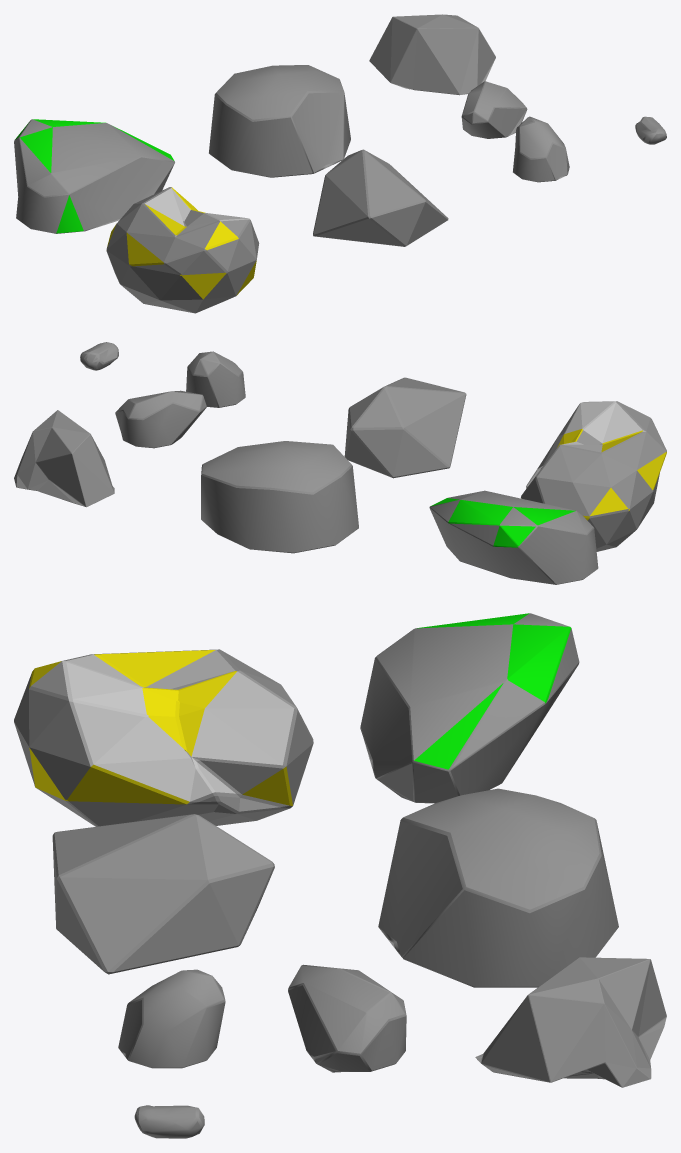
The model's file is Stones.fbx.
The picture shows the model from 3 angles, top to bottom: view 1: azimuth 30°, elevation 25°; view 2: azimuth 150°, elevation 25°; view 3: azimuth 270°, elevation 25°; orthographic projection. The views are drawn at different scales.
Visible parts, largest first — view 1: Ironstone2, Iron stone, Rock Big, MineStone, Mine stone2, RockSmall, Rock, PickUpRock; view 2: Rock Big, Iron stone, Ironstone2, MineStone, Mine stone2, Rock, RockSmall, PickUpRock; view 3: Iron stone, Rock Big, Ironstone2, MineStone, Mine stone2, Rock, RockSmall, PickUpRock.
Part boxes in pixels (<box>): Ironstone2: <box>14,119,174,233</box>; Iron stone: <box>106,187,259,313</box>; Rock Big: <box>209,65,350,177</box>; MineStone: <box>313,149,448,246</box>; Mine stone2: <box>369,14,495,95</box>; RockSmall: <box>513,116,569,182</box>; Rock: <box>461,81,527,138</box>; PickUpRock: <box>635,116,666,144</box>; Rock Big: <box>201,441,358,553</box>; Iron stone: <box>521,401,666,551</box>; Ironstone2: <box>429,490,598,584</box>; MineStone: <box>344,377,466,478</box>; Mine stone2: <box>14,410,114,507</box>; Rock: <box>115,390,206,448</box>; RockSmall: <box>186,351,245,407</box>; PickUpRock: <box>80,342,118,370</box>; Iron stone: <box>14,649,313,826</box>; Rock Big: <box>378,788,618,987</box>; Ironstone2: <box>360,613,579,803</box>; MineStone: <box>52,814,274,974</box>; Mine stone2: <box>475,957,666,1087</box>; Rock: <box>288,964,406,1072</box>; RockSmall: <box>118,969,225,1068</box>; PickUpRock: <box>134,1105,204,1138</box>.
Size of the model in its own units: 1056 by 198 by 630.
